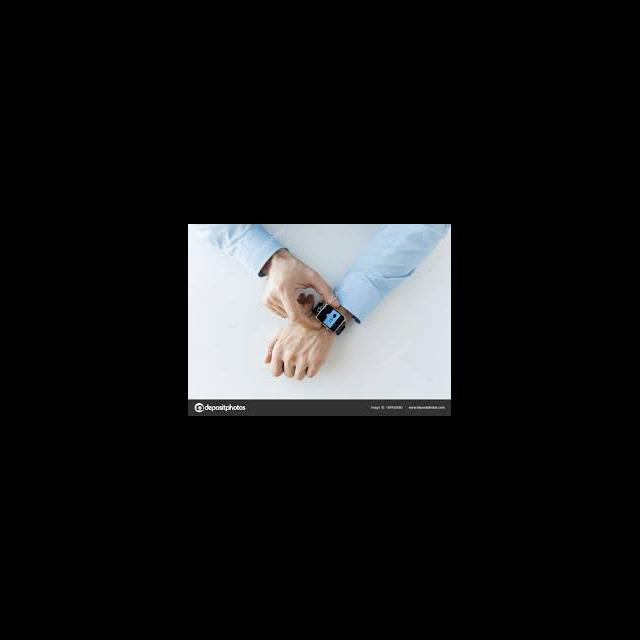watch: (298, 278, 378, 344)
